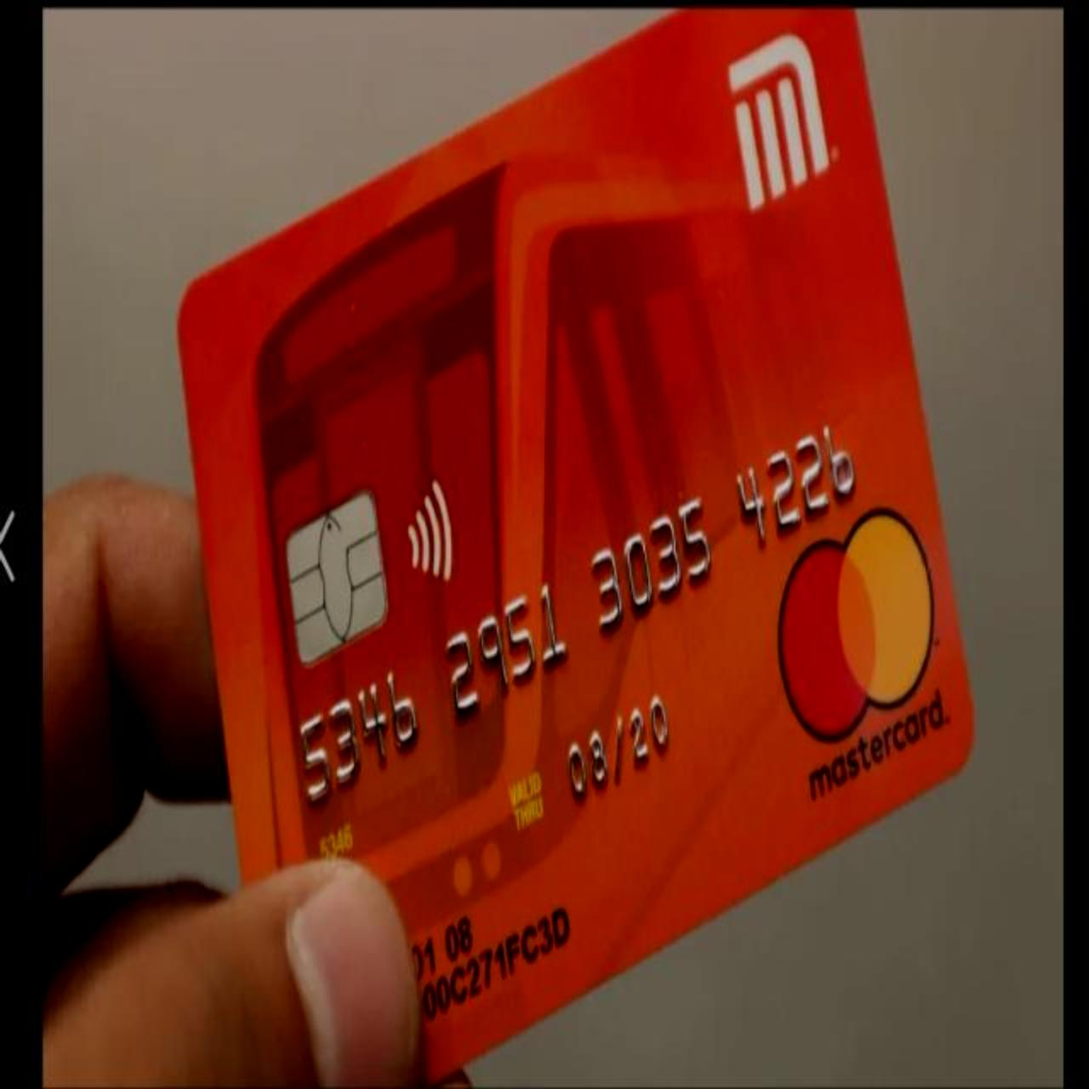credit_card: (184, 0, 987, 1089)
